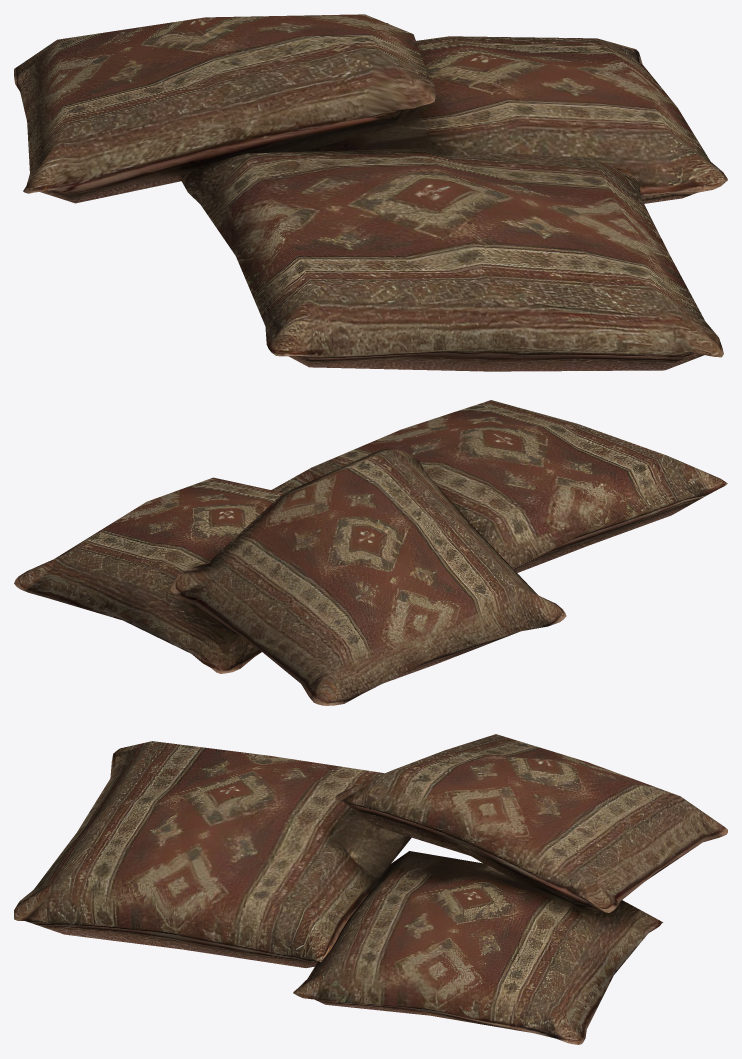
The model's file is Arabic Pillows.fbx.
3 renders of one model, top to bottom at view 1: azimuth 30°, elevation 25°; view 2: azimuth 150°, elevation 25°; view 3: azimuth 270°, elevation 25°, orthographic. The views are drawn at different scales.
Parts seen in each view (by area): view 1: tripo_node_b36485d8-db05-4d69-9163-e49ae62adc6f; view 2: tripo_node_b36485d8-db05-4d69-9163-e49ae62adc6f; view 3: tripo_node_b36485d8-db05-4d69-9163-e49ae62adc6f.
Boxes of the visible parts, x1=… form: tripo_node_b36485d8-db05-4d69-9163-e49ae62adc6f: x1=14, y1=14, x2=727, y2=371; tripo_node_b36485d8-db05-4d69-9163-e49ae62adc6f: x1=14, y1=400, x2=727, y2=705; tripo_node_b36485d8-db05-4d69-9163-e49ae62adc6f: x1=14, y1=734, x2=727, y2=1044.
Size of the model in its own units: 82.23 by 21.29 by 99.8.
Materials: 1 (1 with a texture image).
